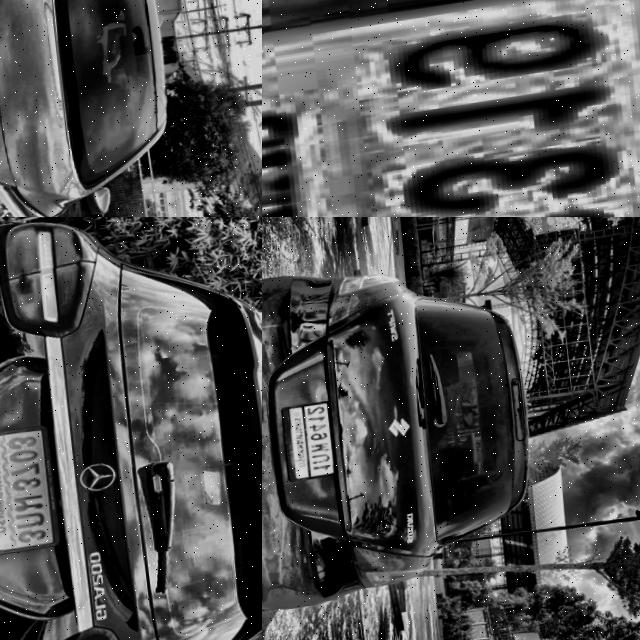license-plate: (262, 0, 640, 217), (0, 427, 61, 561), (279, 401, 340, 485)
